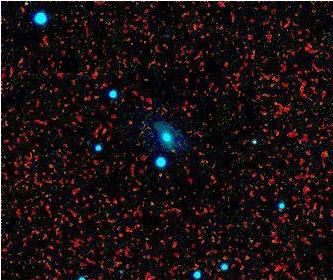star: (149, 170, 179, 200)
